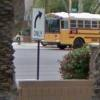Bus: (43, 7, 98, 52)
